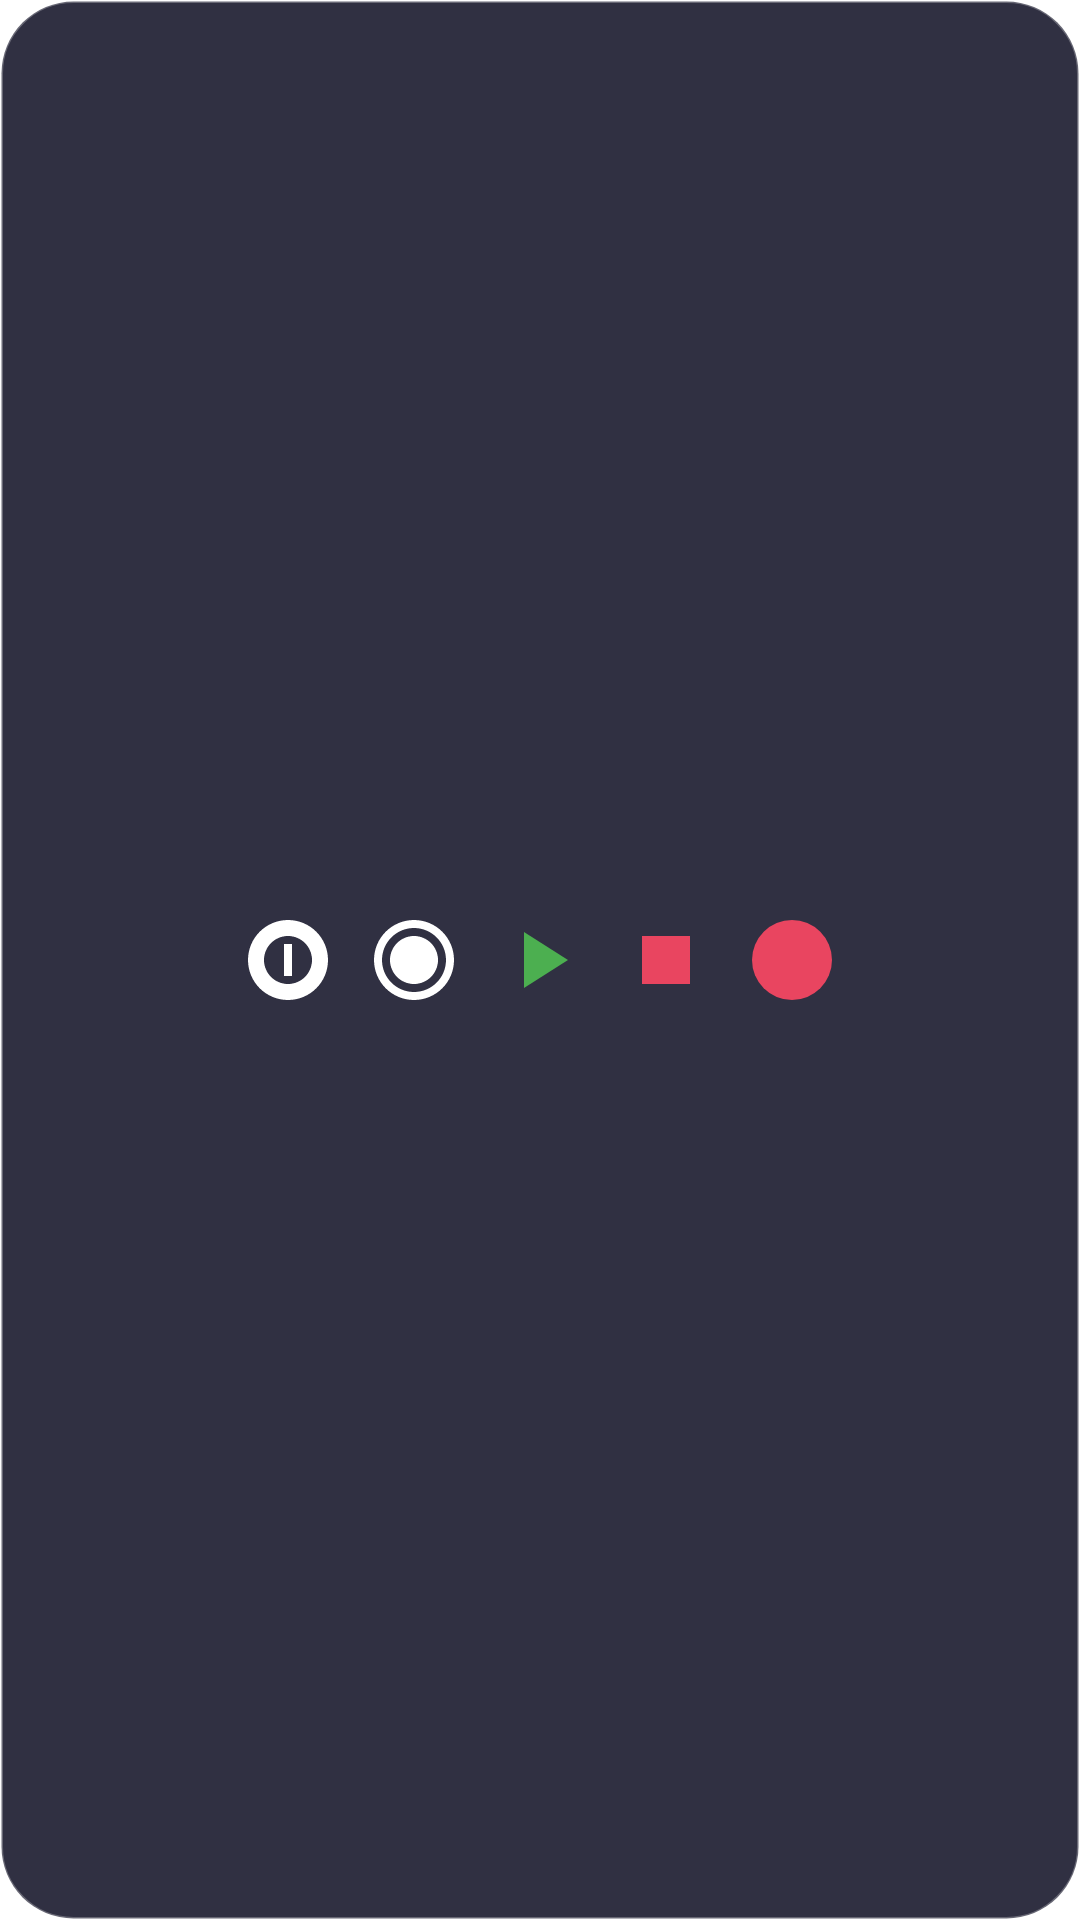

Icon bounding boxes for this 1080w x 1920h phone screenshot, format BBox(x1, y1, x2, y2):
Play: BBox(524, 932, 568, 988)
Record: BBox(752, 920, 832, 1000)
Set Position: BBox(374, 920, 454, 1000)
